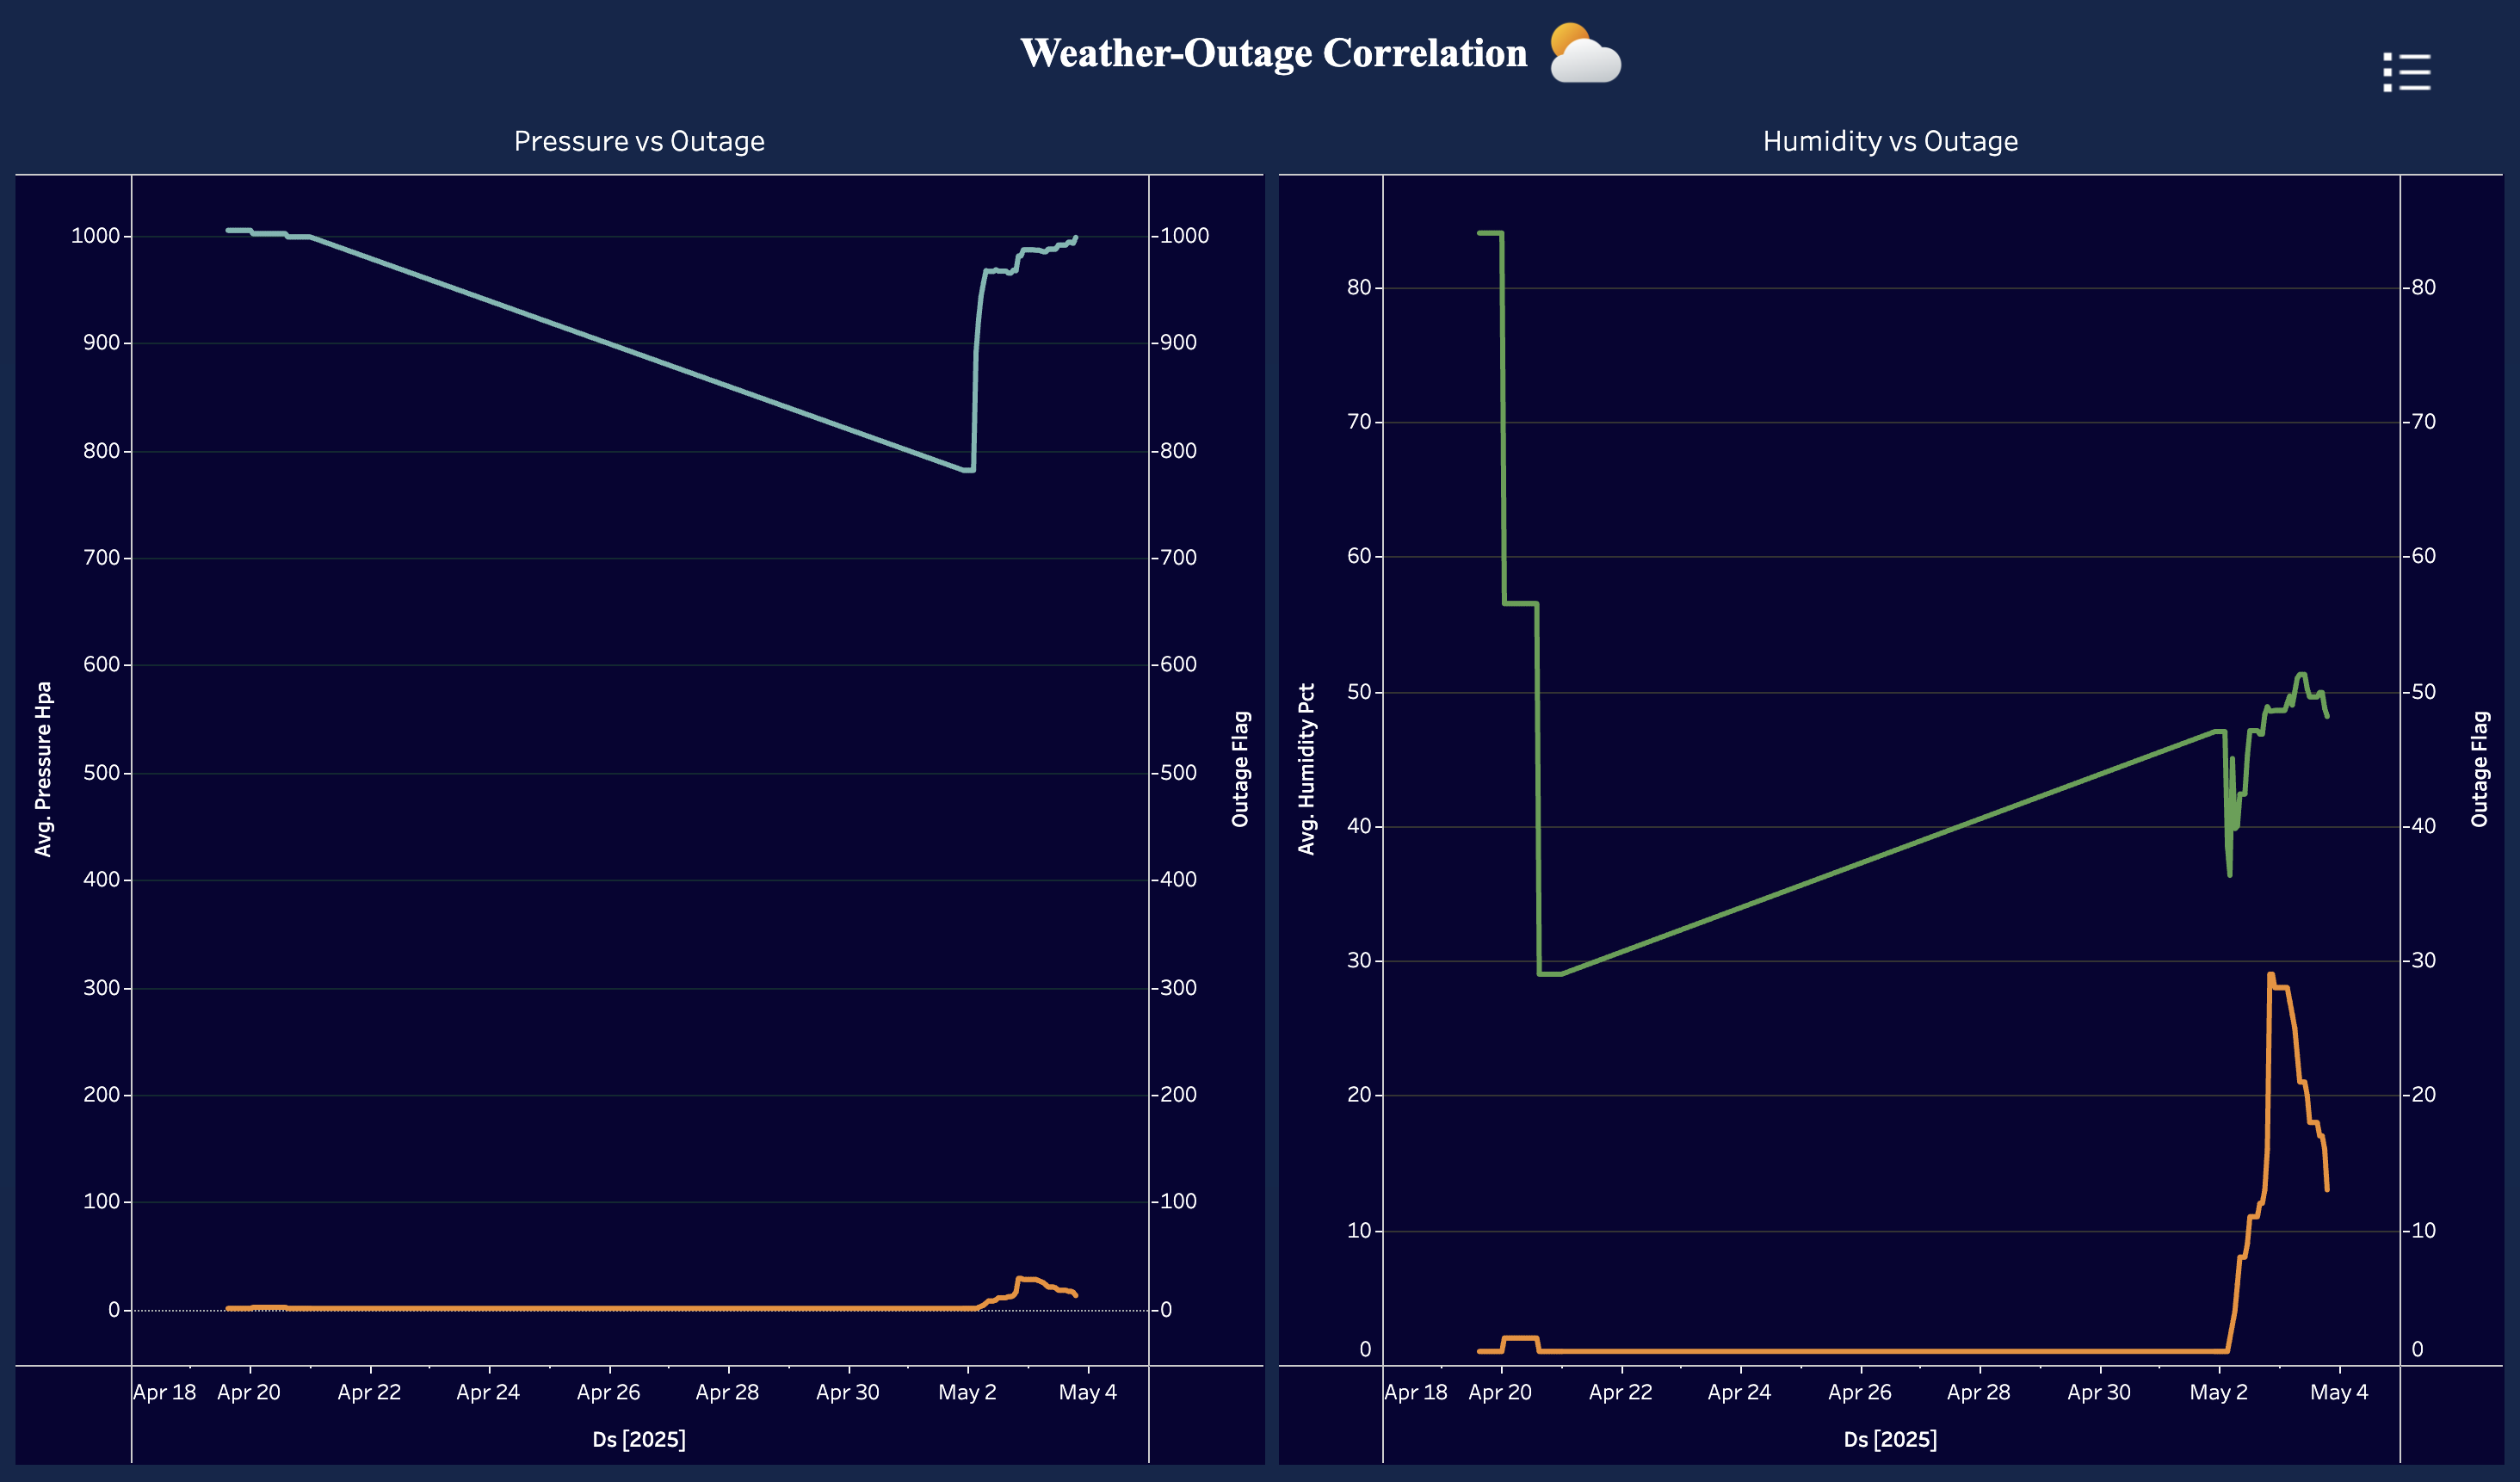

The dashboard page shown, as its layout file describes it:
{"tool":"tableau","page":{"name":"Dashboard 2","canvas":[1000,1000],"units":"permille","ordinal":1},"visuals":[{"type":"text","box":[6.4,13.2,519.6,65.2]},{"type":"image","box":[526,13.2,467.5,65.2]},{"type":"dashboard-object","box":[932.9,35.1,41.5,40.1]},{"type":"worksheet","title":"Sheet 5","mark":"Automatic","rows":["windspeed_kph","outage_flag"],"cols":["ds"],"box":[6.4,78.4,493.6,908.4]},{"type":"worksheet","title":"Sheet 6","mark":"Automatic","rows":["temperature_c","outage_flag"],"cols":["ds"],"box":[500,78.4,493.6,908.4]},{"type":"legend","title":"Sheet 5","param":"[federated.1gcilp815hy6p914p38aa0gtid79].[:Measure Names]","box":[864.4,78.6,129.1,112]},{"type":"legend","title":"Sheet 6","param":"[federated.1gcilp815hy6p914p38aa0gtid79].[:Measure Names]","box":[864.4,190.6,129.1,112]}]}

Visuals, with their boxes on the dashboard's canvas, which has no fixed pixel size, in thousandths of its width and height (x1, y1, x2, y2). These are canvas units, not pixel positions in the 2520x1482 screenshot, which may show the page scaled, cropped or inside an application window:
text: bbox=[6, 13, 526, 78]
image: bbox=[526, 13, 994, 78]
dashboard-object: bbox=[933, 35, 974, 75]
"Sheet 5" worksheet: bbox=[6, 78, 500, 987]
"Sheet 6" worksheet: bbox=[500, 78, 994, 987]
"Sheet 5" legend: bbox=[864, 79, 994, 191]
"Sheet 6" legend: bbox=[864, 191, 994, 303]
